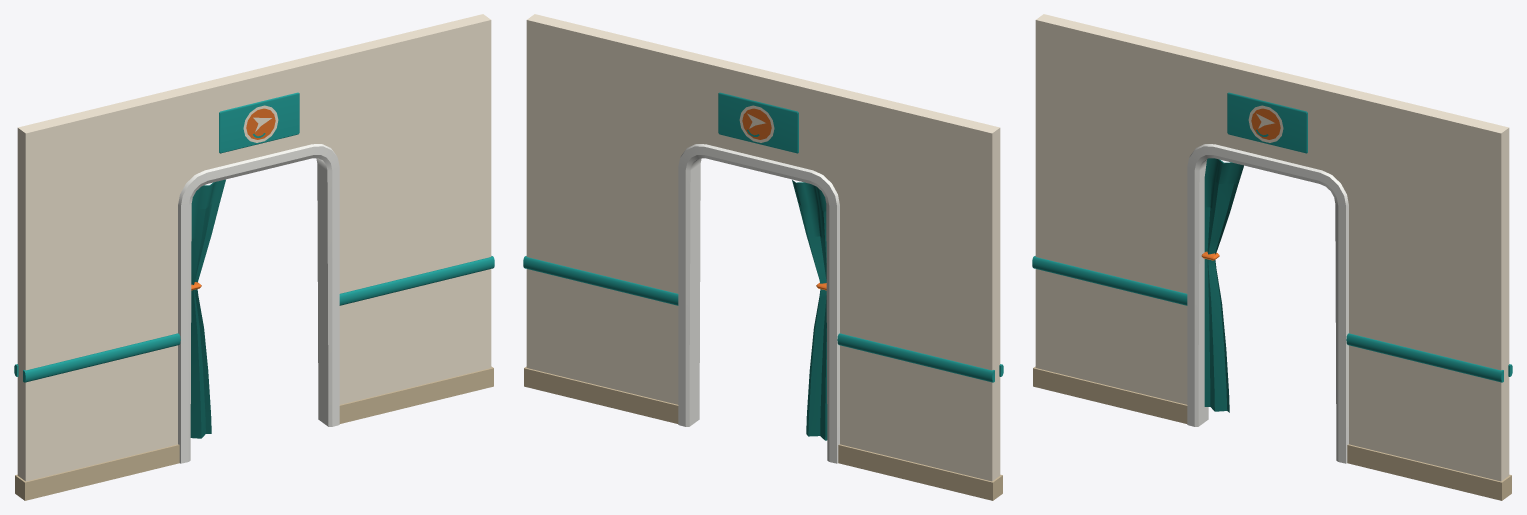
File: MamparaCabina.fbx
The picture shows the model from 3 angles, left to right: view 1: azimuth 30°, elevation 25°; view 2: azimuth 150°, elevation 25°; view 3: azimuth 330°, elevation 25°; orthographic projection.
Parts seen in each view (by area): view 1: MamparaCabina; view 2: MamparaCabina; view 3: MamparaCabina.
Part boxes in pixels (x1,y1,x2,y2): MamparaCabina: (14,14,494,500); MamparaCabina: (523,14,1003,500); MamparaCabina: (1032,14,1512,500).
Bounding box in the file's own units: 13.4 × 10 × 0.7408.
1 material, 1 textured.
